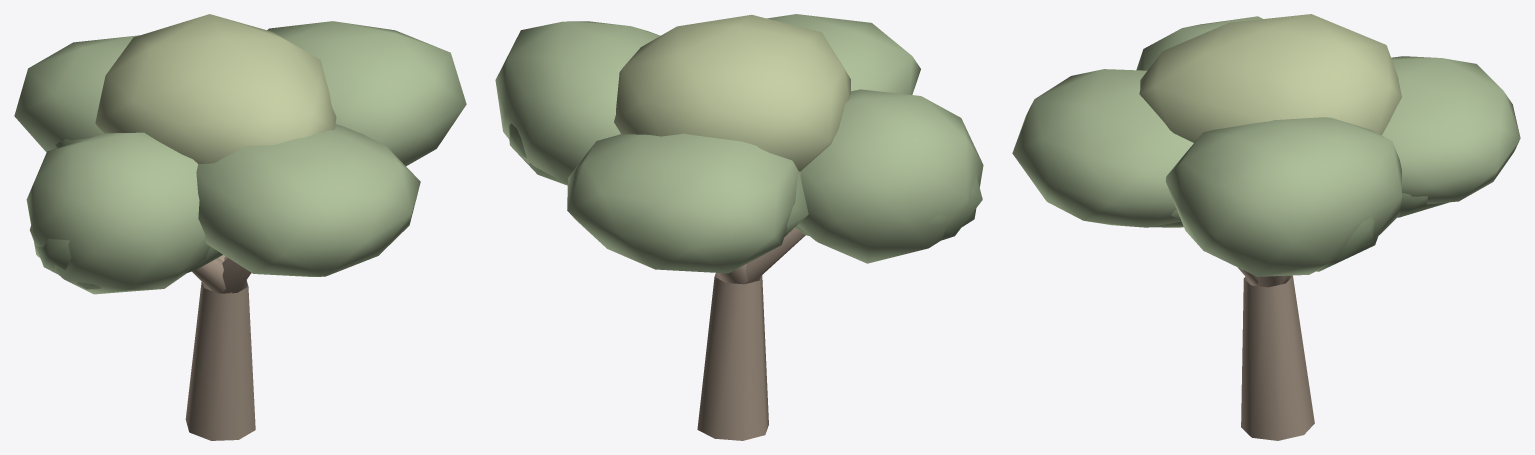
The model's file is tree_ombu_9.glb.
3 renders of one model, left to right at view 1: azimuth 30°, elevation 25°; view 2: azimuth 150°, elevation 25°; view 3: azimuth 270°, elevation 25°, orthographic. The views are drawn at different scales.
Parts seen in each view (by area): view 1: tree_ombu_9.glb; view 2: tree_ombu_9.glb; view 3: tree_ombu_9.glb.
Part boxes in pixels (box(x1,y1,x2,y2)): tree_ombu_9.glb: box(14, 14, 466, 440); tree_ombu_9.glb: box(495, 14, 983, 440); tree_ombu_9.glb: box(1012, 14, 1520, 440).
Bounding box in the file's own units: 6.62 × 5.71 × 6.6.
